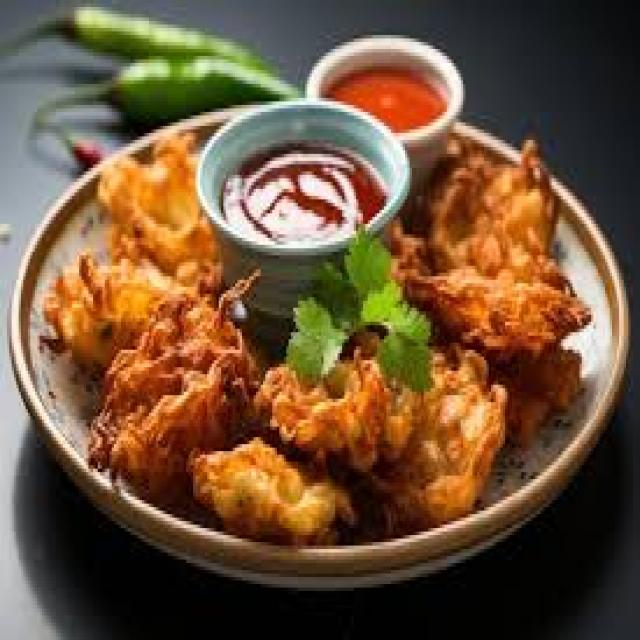BAJI: (37, 127, 595, 553)
